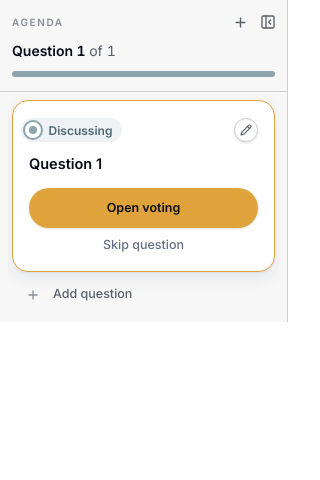
Scenario: AgendaPanel leader controls (F25/F26) › lets the leader type a question into the agenda and posts it
Step 1. Click the button "Add question" → {"x": 93, "y": 294}, box [12,276,275,314]
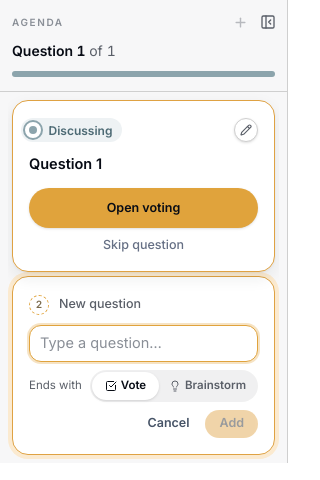
Step 2. Type "What did we miss?" into the field labelled "New question" → {"x": 144, "y": 343}, box [29,325,258,362]
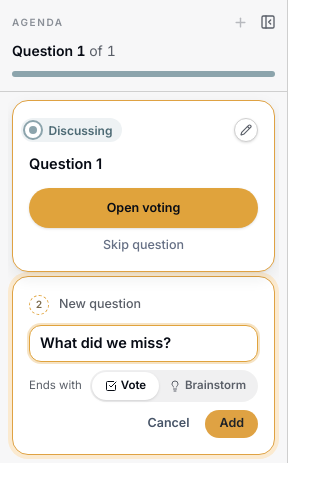
Step 3. Click the button "Add" → {"x": 232, "y": 424}, box [206,410,258,438]
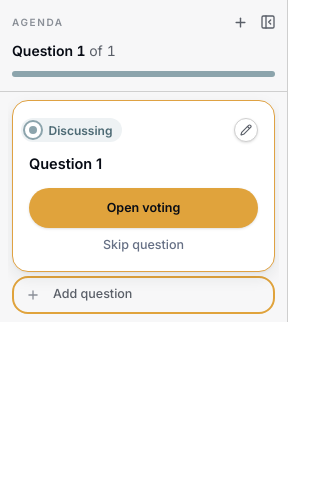
Check: the text "What did we miss?" is not shown
Check: the label labelled "New question" is gone
